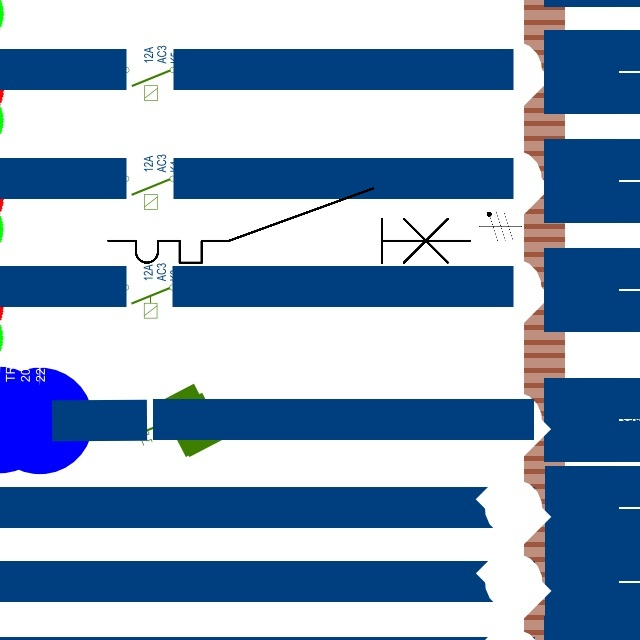interruptor_termomagnetico: (99, 179, 479, 272)
